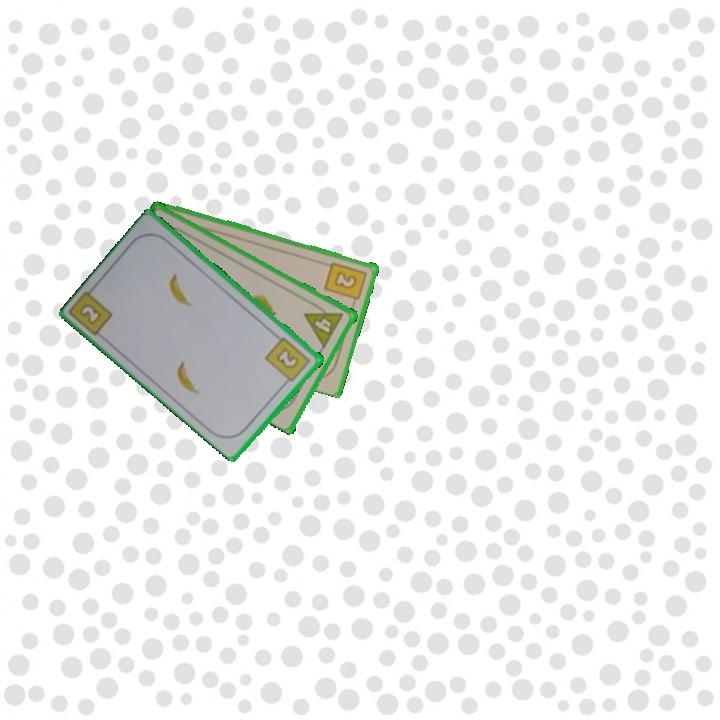2b: (262, 334, 314, 388), (321, 258, 370, 308), (76, 300, 105, 328)
4p: (301, 298, 347, 350)
